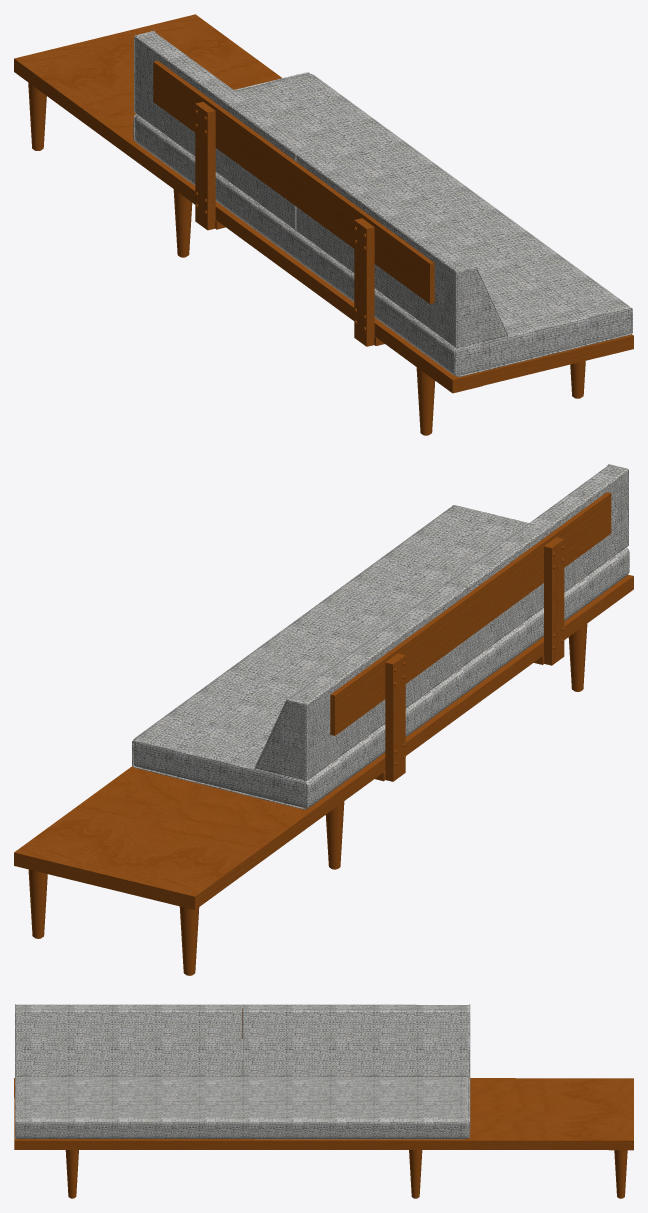
File: Sectional1git.glb
3 views of the same model, one above another, from view 1: azimuth 30°, elevation 25°; view 2: azimuth 150°, elevation 25°; view 3: azimuth 270°, elevation 25° (orthographic). The views are drawn at different scales.
Parts seen in each view (by area): view 1: Cylinder.005, Cylinder.068; view 2: Cylinder.005, Cylinder.068; view 3: Cylinder.005, Cylinder.068.
Boxes of the visible parts, x1,y1,x2,y2 form: Cylinder.005: (133, 31, 632, 376); Cylinder.068: (14, 14, 633, 435); Cylinder.005: (132, 464, 629, 809); Cylinder.068: (14, 492, 633, 975); Cylinder.005: (15, 1004, 470, 1139); Cylinder.068: (14, 1008, 633, 1198).
Bounding box in the file's own units: 0.8028 × 0.7788 × 3.18.
2 materials, 2 textured.
